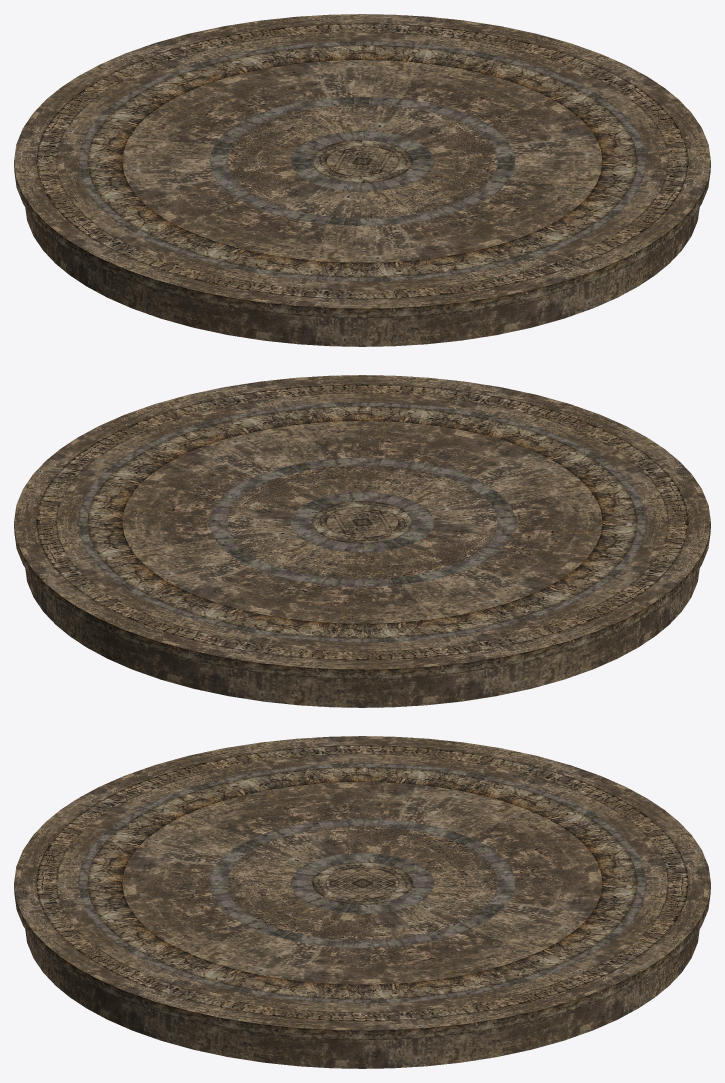
File: materials_5_floor_round_3.fbx
3 renders of one model, top to bottom at view 1: azimuth 30°, elevation 25°; view 2: azimuth 150°, elevation 25°; view 3: azimuth 270°, elevation 25°, orthographic.
Visible parts, largest first — view 1: materials_5_floor_round_3; view 2: materials_5_floor_round_3; view 3: materials_5_floor_round_3.
Boxes of the visible parts, bbox=[...] form: materials_5_floor_round_3: bbox=[14, 14, 710, 346]; materials_5_floor_round_3: bbox=[14, 375, 710, 707]; materials_5_floor_round_3: bbox=[14, 736, 710, 1068].
Size of the model in its own units: 1076 by 72.92 by 1076.
